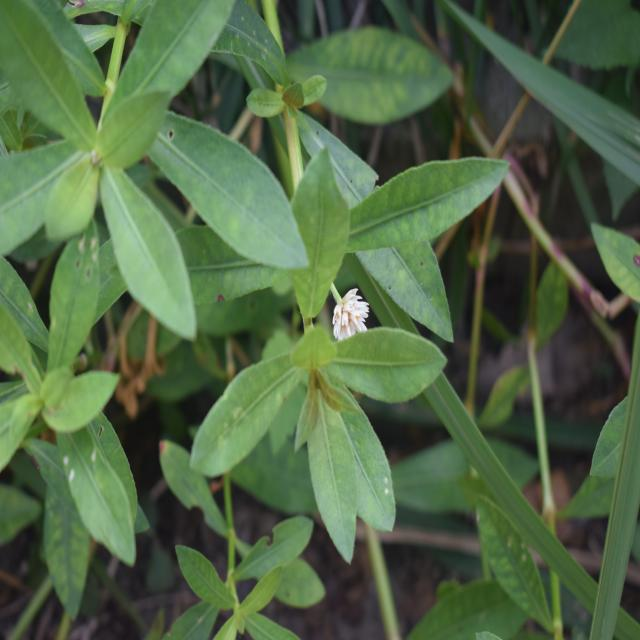Alligatorweed: (200, 124, 444, 547), (0, 0, 246, 290)
